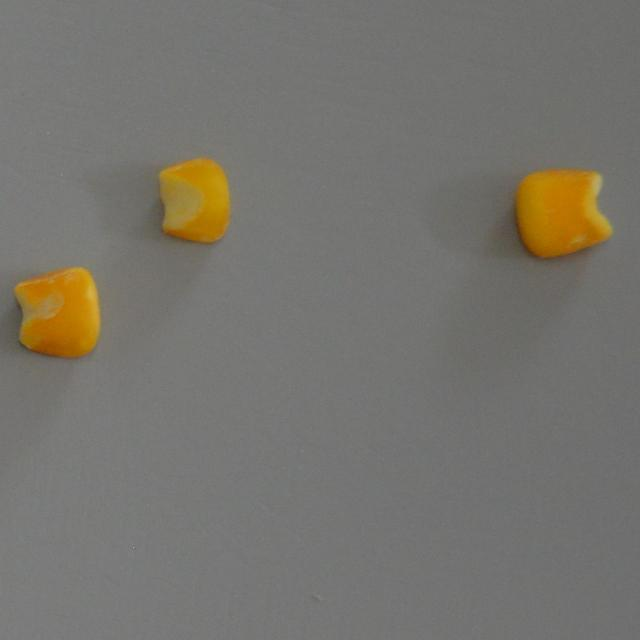dañado: (510, 165, 616, 261), (11, 264, 102, 361), (155, 154, 234, 248)
